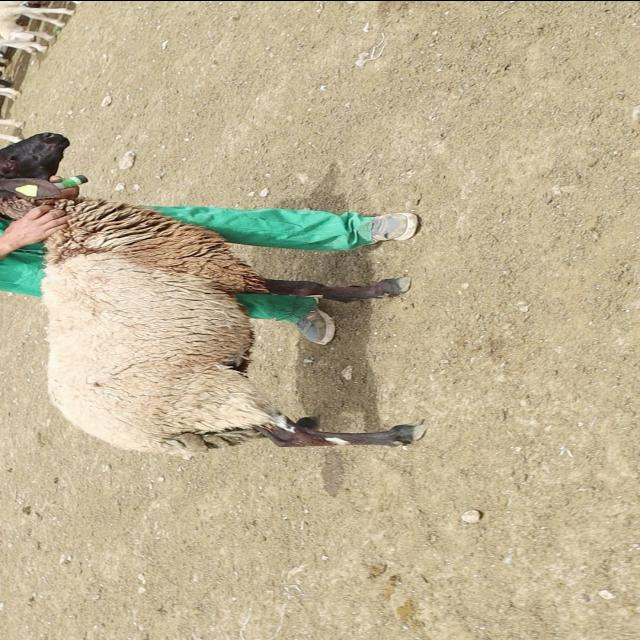Score_2: (0, 132, 424, 457)
